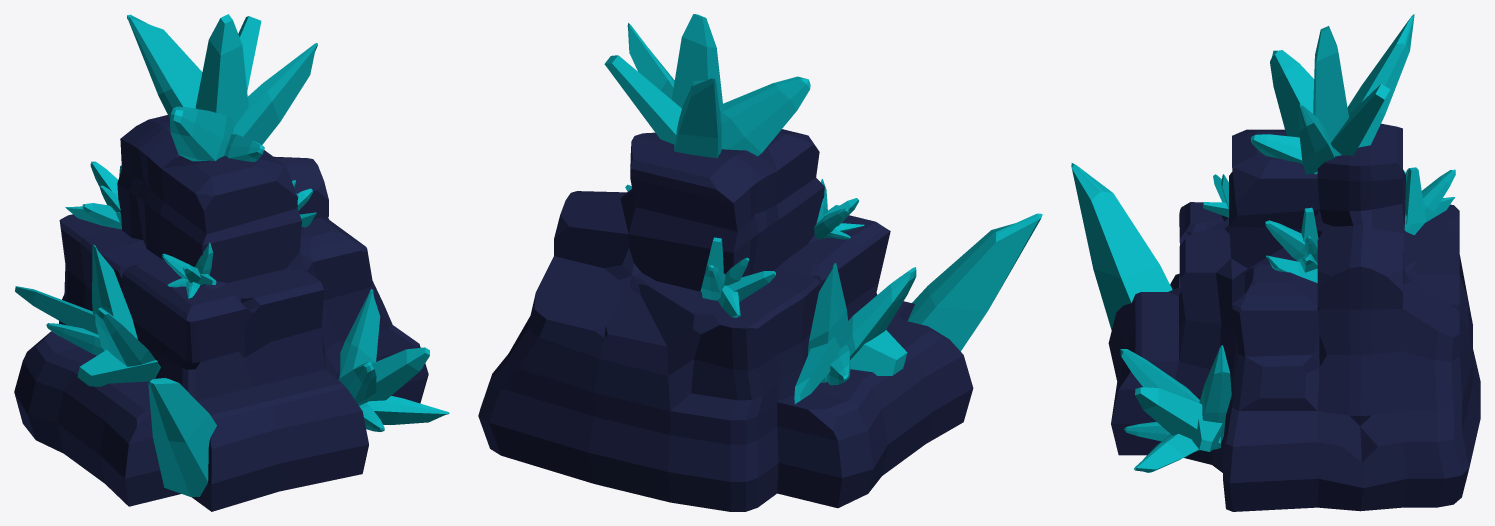
Rendered from Kristallstein.glb.
The picture shows the model from 3 angles, left to right: view 1: azimuth 30°, elevation 25°; view 2: azimuth 150°, elevation 25°; view 3: azimuth 270°, elevation 25°; orthographic projection. The views are drawn at different scales.
Parts seen in each view (by area): view 1: Cube; view 2: Cube; view 3: Cube.
Part boxes in pixels (box(x1,y1,x2,y2)): Cube: box(14, 14, 449, 511); Cube: box(478, 14, 1042, 511); Cube: box(1071, 14, 1480, 511).
Size of the model in its own units: 4.99 by 5.29 by 4.78.
